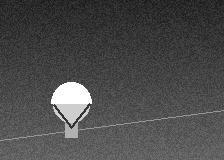helmet: (51, 82, 91, 127)
